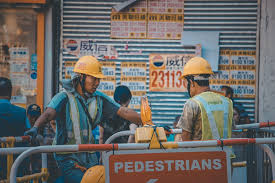Person_wearing_helmet: (175, 50, 216, 84), (67, 50, 108, 83)
